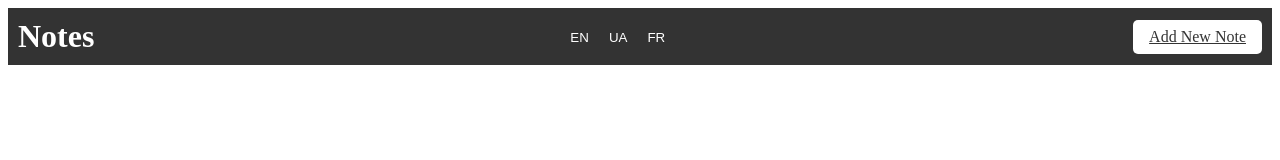
Test: Notes App › should change language to French
The width and height of the screenshot is (1280, 160).
Click the button "FR" at (656, 38), box x1=641 y1=29 x2=671 y2=46
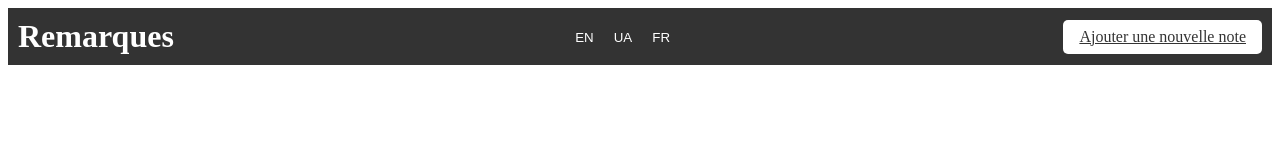
Expected: the heading "Remarques" is shown, x1=18 y1=18 x2=174 y2=55
